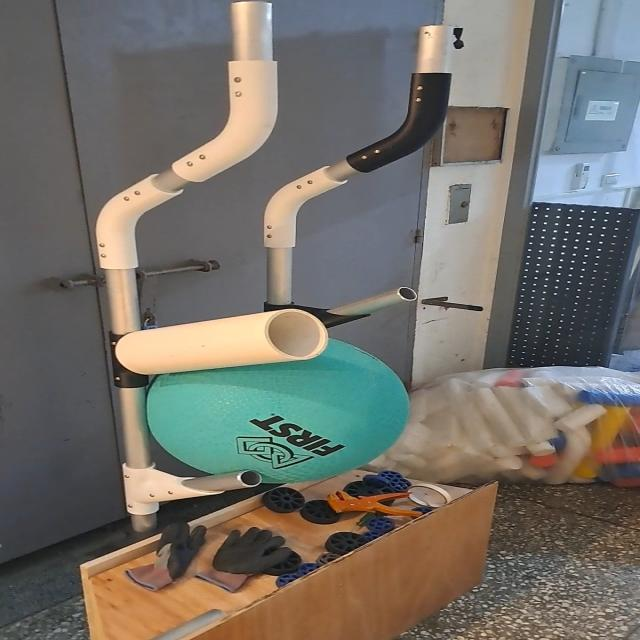ALGAE: (143, 332, 414, 486)
CORAL: (113, 306, 331, 380)
